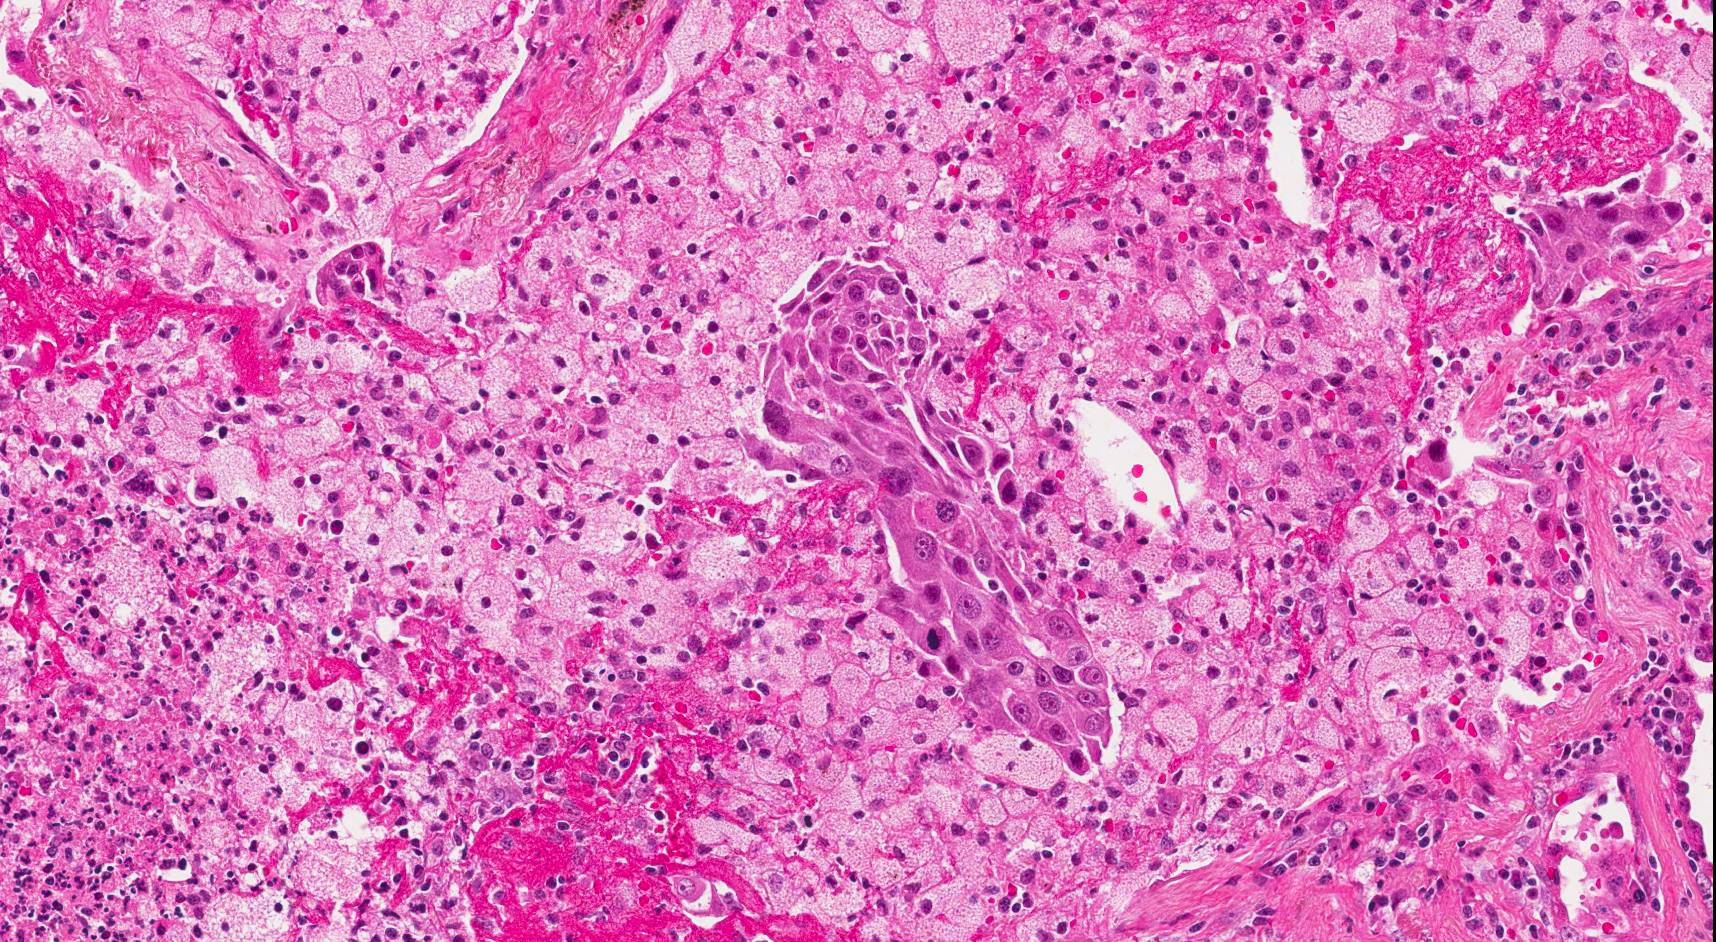stas: (760, 252, 1119, 774), (1508, 198, 1684, 312), (309, 240, 390, 300)
